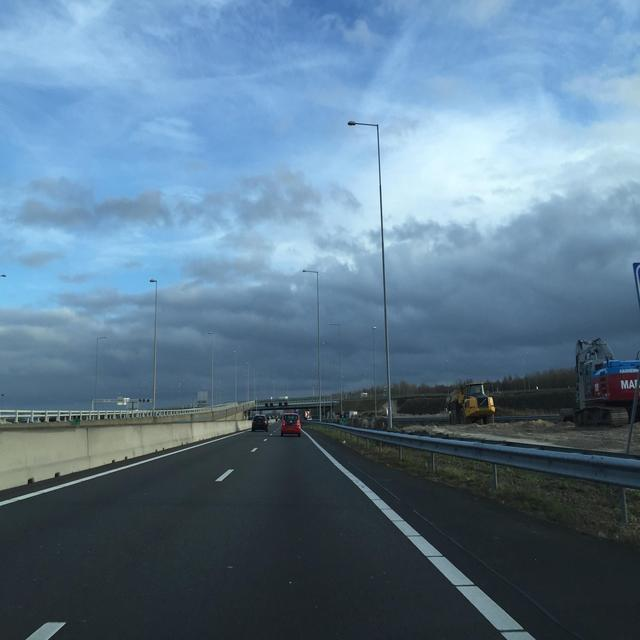Barrier: (0, 418, 252, 488)
Car: (251, 410, 300, 436)
Vegetation: (390, 379, 479, 417), (332, 384, 386, 417)
